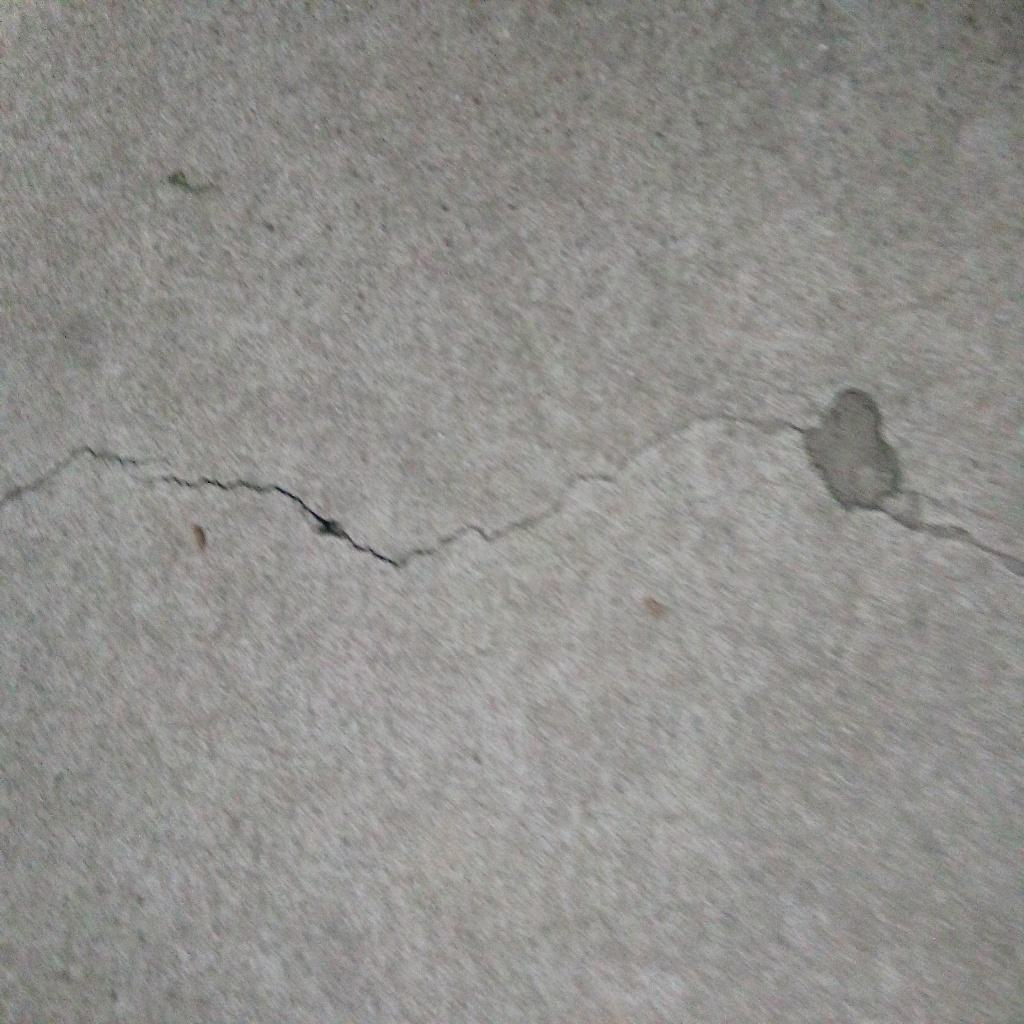Crack: (136, 409, 806, 570), (880, 504, 1024, 579), (1, 444, 172, 506)
Spalling: (806, 385, 902, 509)
